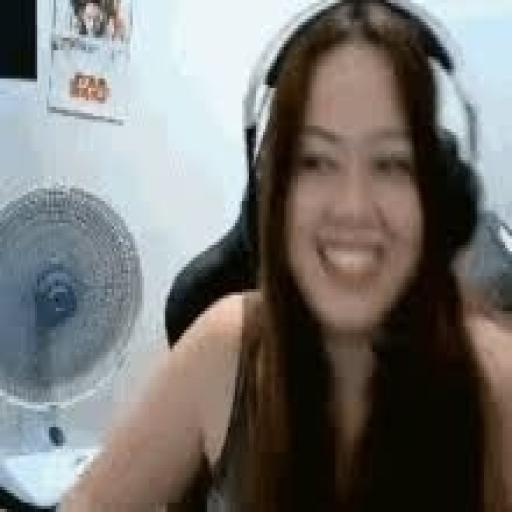laughing: (49, 0, 510, 509)
